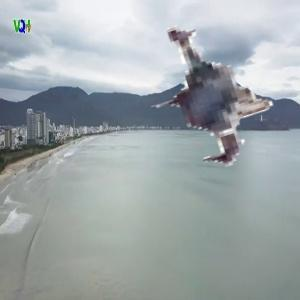drone: (115, 12, 300, 198)
